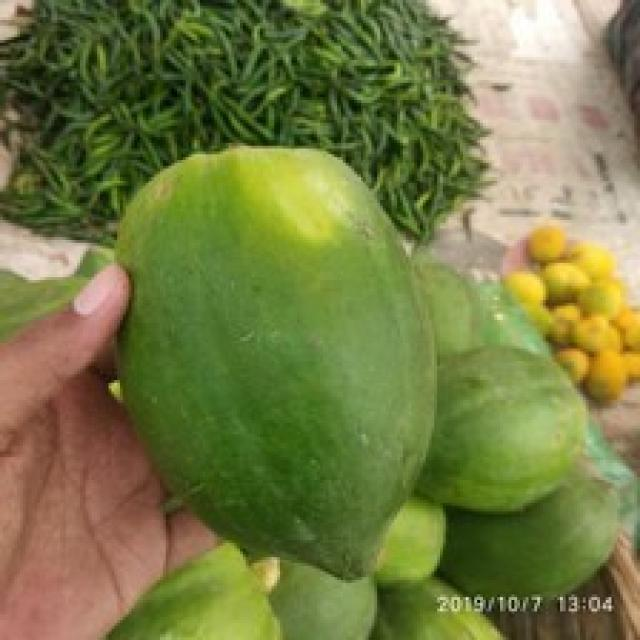Pepaya unrippen: (110, 136, 437, 589)
